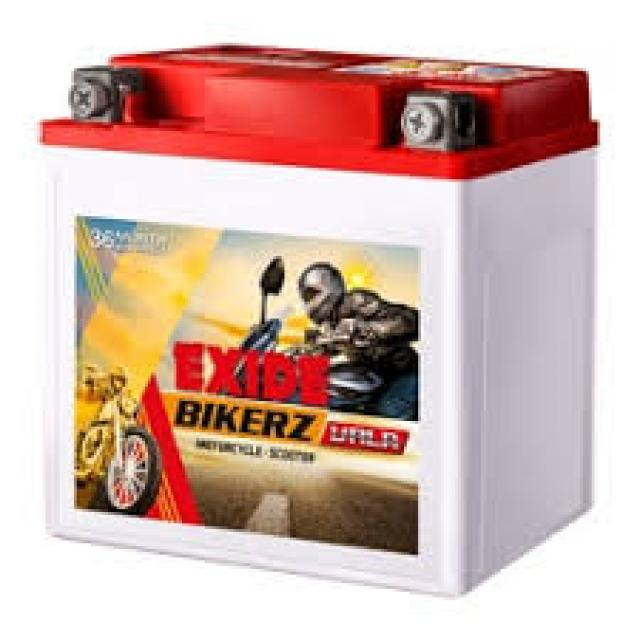battery: (37, 45, 600, 598)
